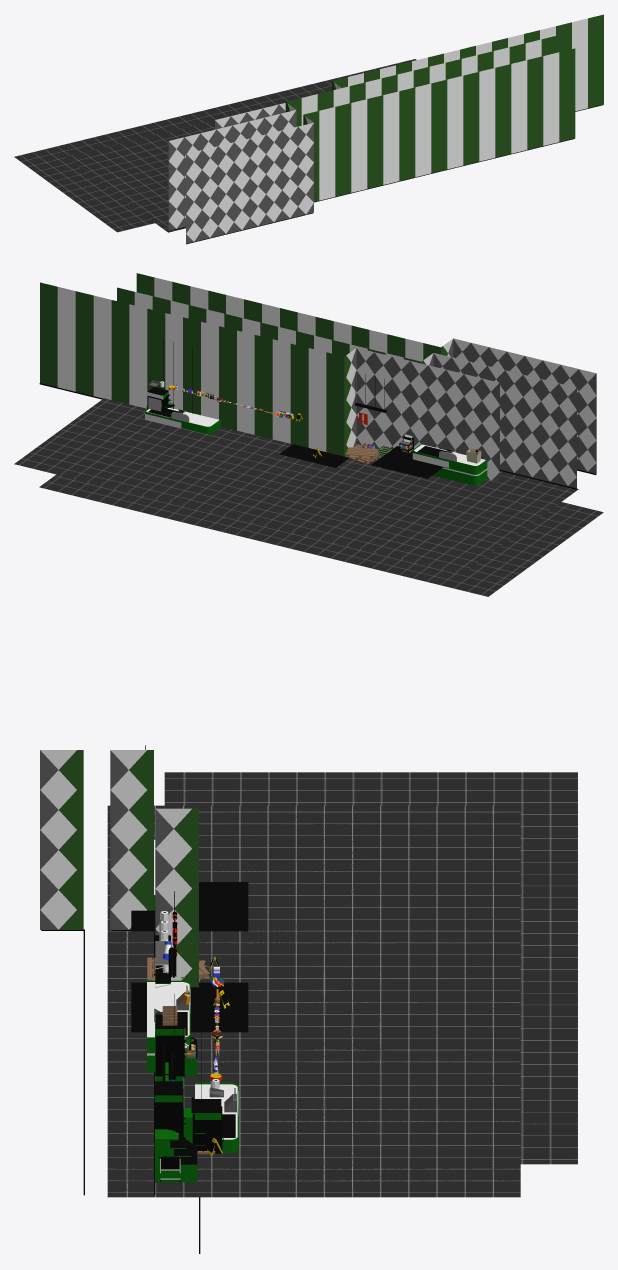
The model's file is Props.fbx.
The picture shows the model from 3 angles, top to bottom: view 1: azimuth 30°, elevation 25°; view 2: azimuth 150°, elevation 25°; view 3: azimuth 270°, elevation 25°; orthographic projection. The views are drawn at different scales.
Parts seen in each view (by area): view 1: wall.001, Plane.040, floor, wall, floor.001, Plane.041; view 2: wall, Plane.041, Plane.040, floor, wall.001, floor.001, Cube.038, water.001, checkout, Plane.007; view 3: Plane.041, floor.001, floor, wall.001, Plane.040, wall, Plane.007, water.001, checkout.001, rack_2.001, fridge.001, Fridge (+2 smaller).
Boxes of the visible parts, x1,y1,x2,y2 form: wall.001: (186,48,575,244); Plane.040: (168,35,557,231); floor: (14,59,416,232); wall: (215,14,603,129); floor.001: (72,121,214,232); Plane.041: (65,120,214,231); wall: (39,282,499,482); Plane.041: (14,398,578,573); Plane.040: (117,287,576,489); floor: (39,474,603,596); wall.001: (136,273,596,474); floor.001: (60,399,512,474); Cube.038: (412,443,487,485); water.001: (371,446,443,478); checkout: (145,408,220,434); Plane.007: (279,444,348,467); Plane.041: (107,805,520,1197); floor.001: (107,805,520,1197); floor: (164,772,577,1164); wall.001: (40,750,84,1195); Plane.040: (110,750,155,1195); wall: (155,808,200,1253); Plane.007: (131,982,248,1032); water.001: (131,882,248,931); checkout.001: (147,980,190,1072); rack_2.001: (155,1129,197,1182); fridge.001: (154,1081,182,1153); Fridge: (155,1014,183,1088).
Size of the model in its own units: 5426 by 1092 by 2550.
